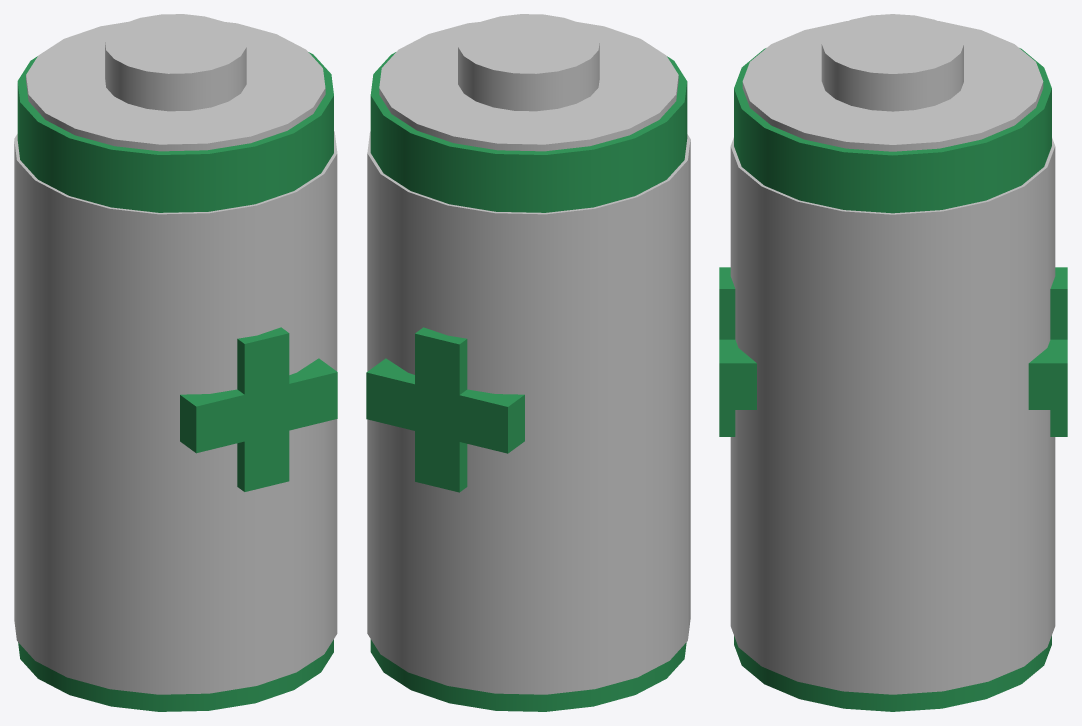
The model's file is battery1.fbx.
3 renders of one model, left to right at view 1: azimuth 30°, elevation 25°; view 2: azimuth 150°, elevation 25°; view 3: azimuth 270°, elevation 25°, orthographic.
Parts seen in each view (by area): view 1: pCylinder4, polySurface1, polySurface2, pCube4; view 2: pCylinder4, polySurface1, polySurface2, pCube5; view 3: pCylinder4, polySurface1, polySurface2, pCube5, pCube4.
Boxes of the visible parts, <box> form: pCylinder4: <box>14,131,337,694</box>; polySurface1: <box>26,14,325,151</box>; polySurface2: <box>17,52,333,711</box>; pCube4: <box>180,327,337,491</box>; pCylinder4: <box>367,131,690,694</box>; polySurface1: <box>379,14,678,151</box>; polySurface2: <box>370,52,687,711</box>; pCube5: <box>366,327,524,492</box>; pCylinder4: <box>730,137,1055,694</box>; polySurface1: <box>742,14,1043,151</box>; polySurface2: <box>734,48,1051,711</box>; pCube5: <box>1028,267,1067,436</box>; pCube4: <box>719,267,756,436</box>.
Size of the model in its own units: 2.64 by 5.39 by 2.83.
